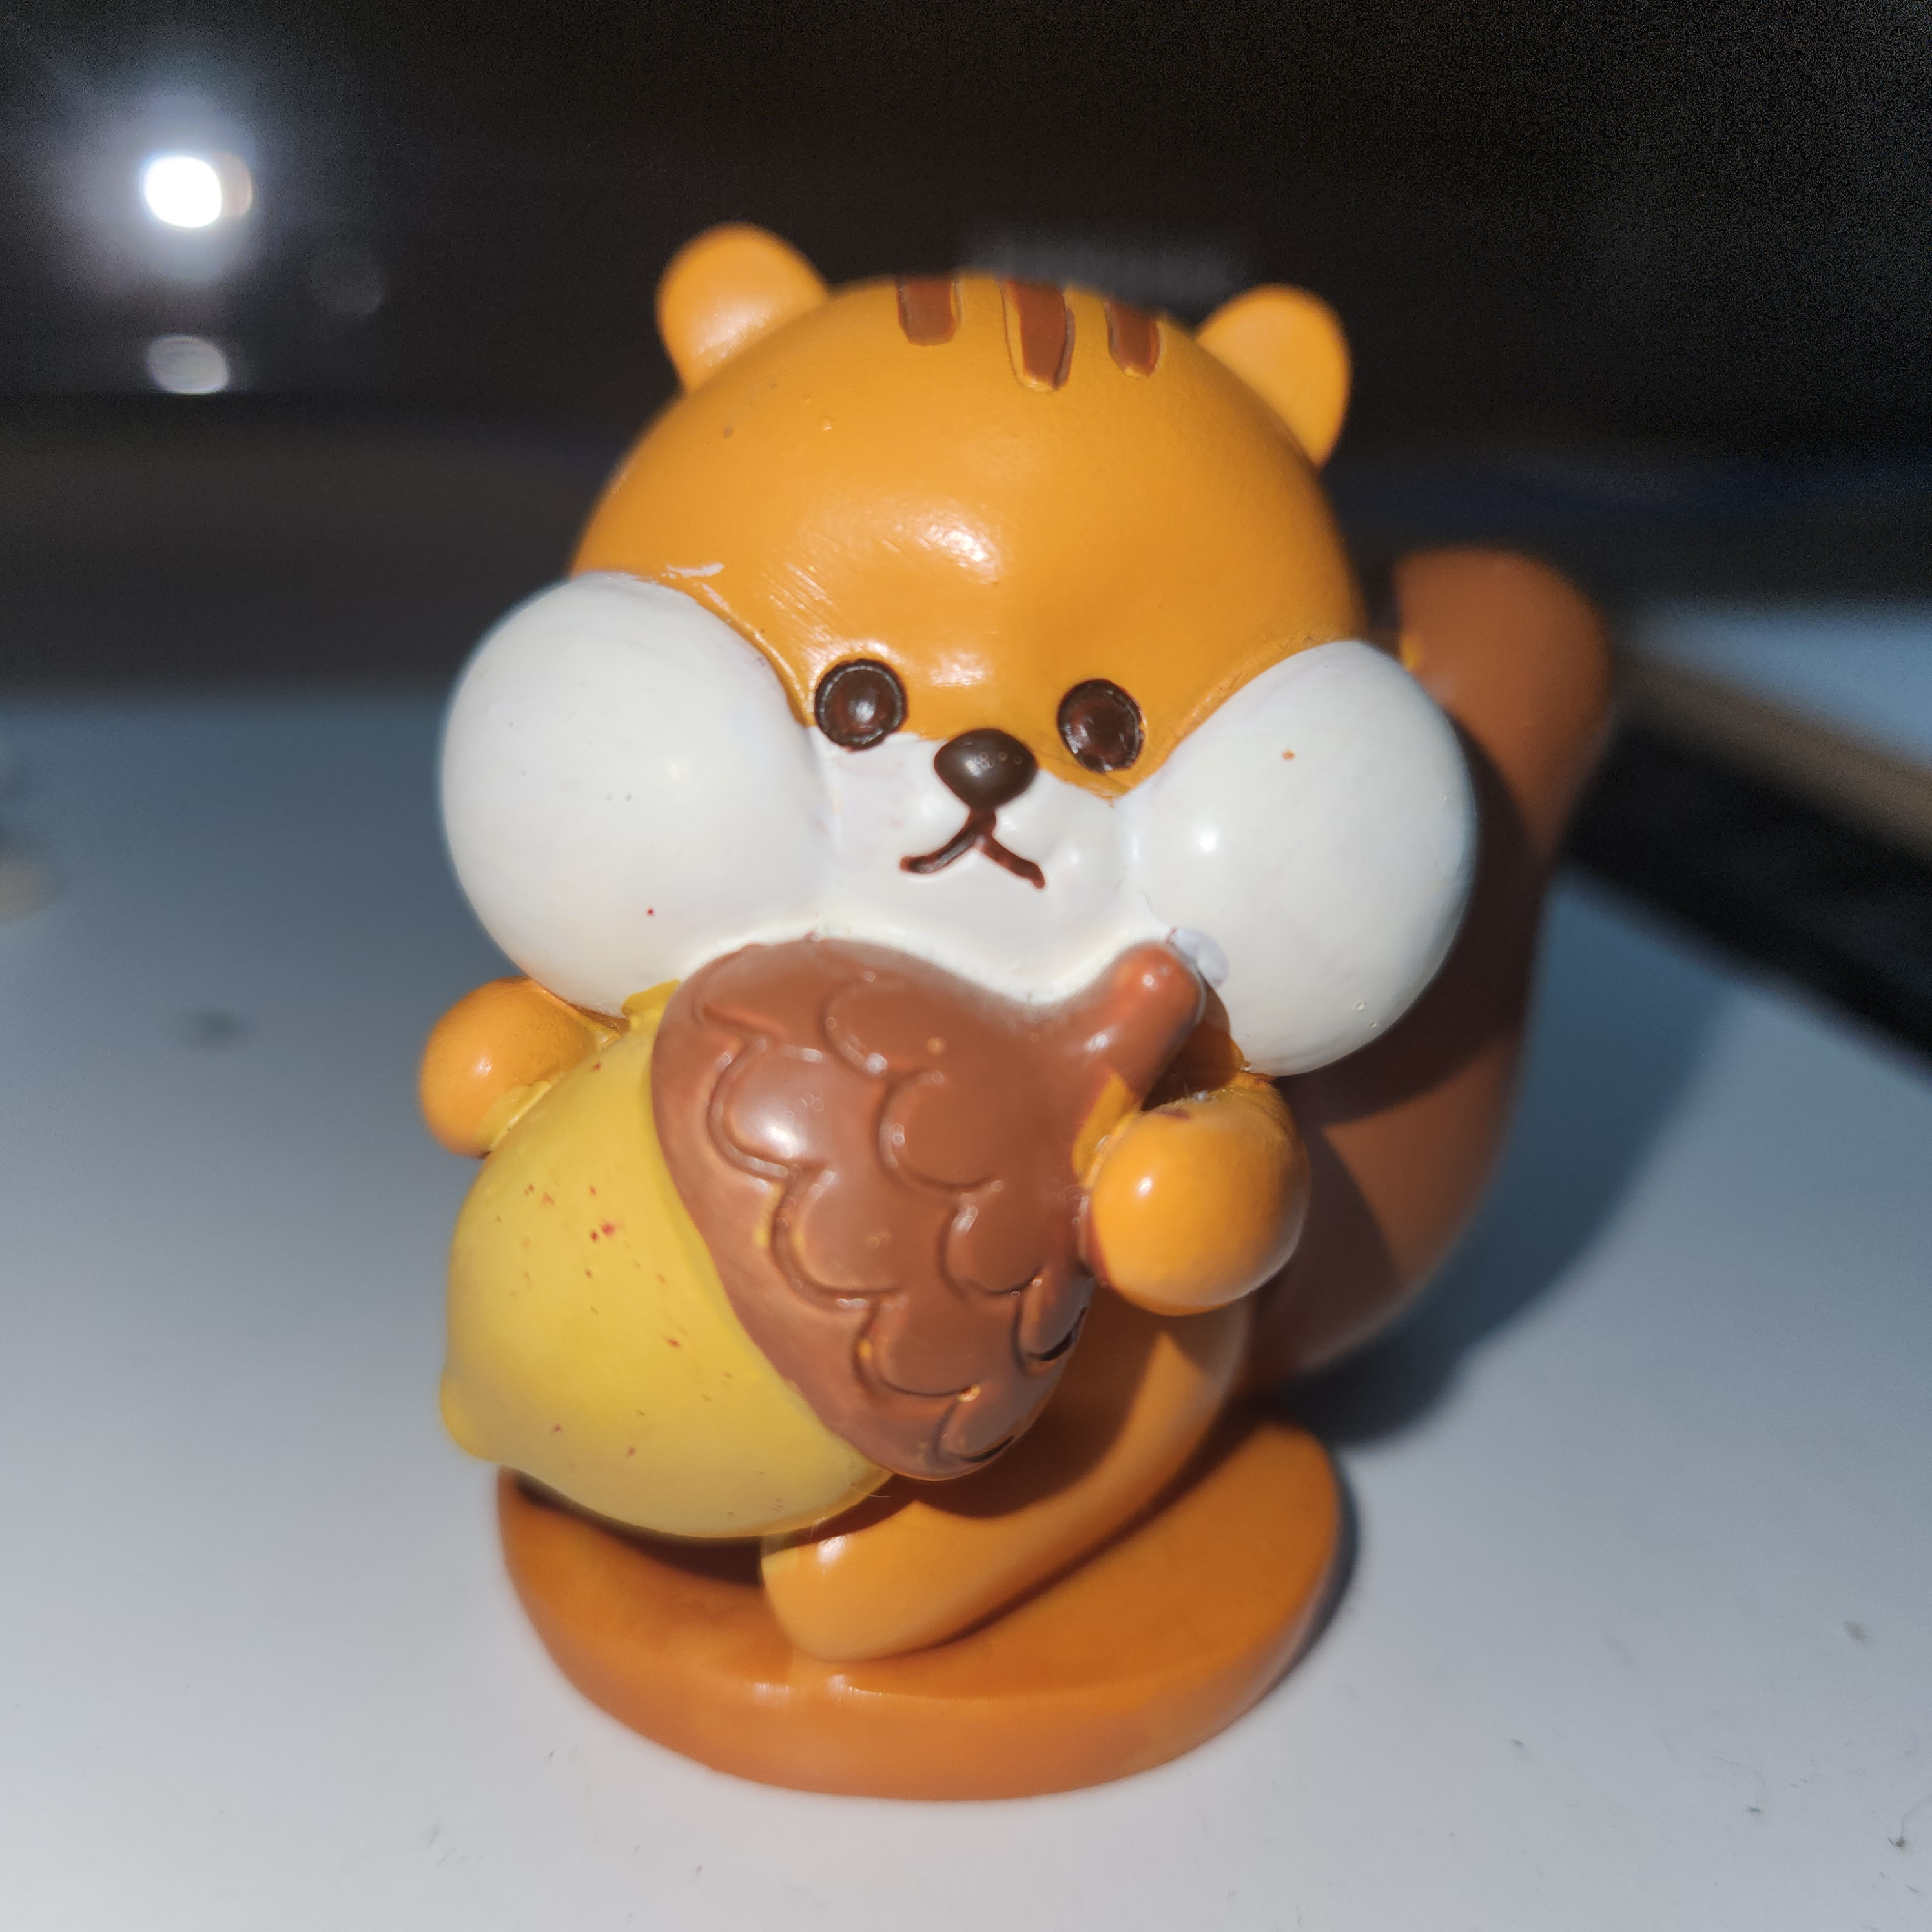good: (179, 294, 1803, 1522)
